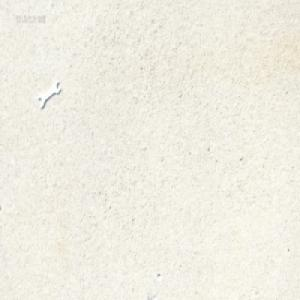Wrench: (38, 79, 61, 110)
